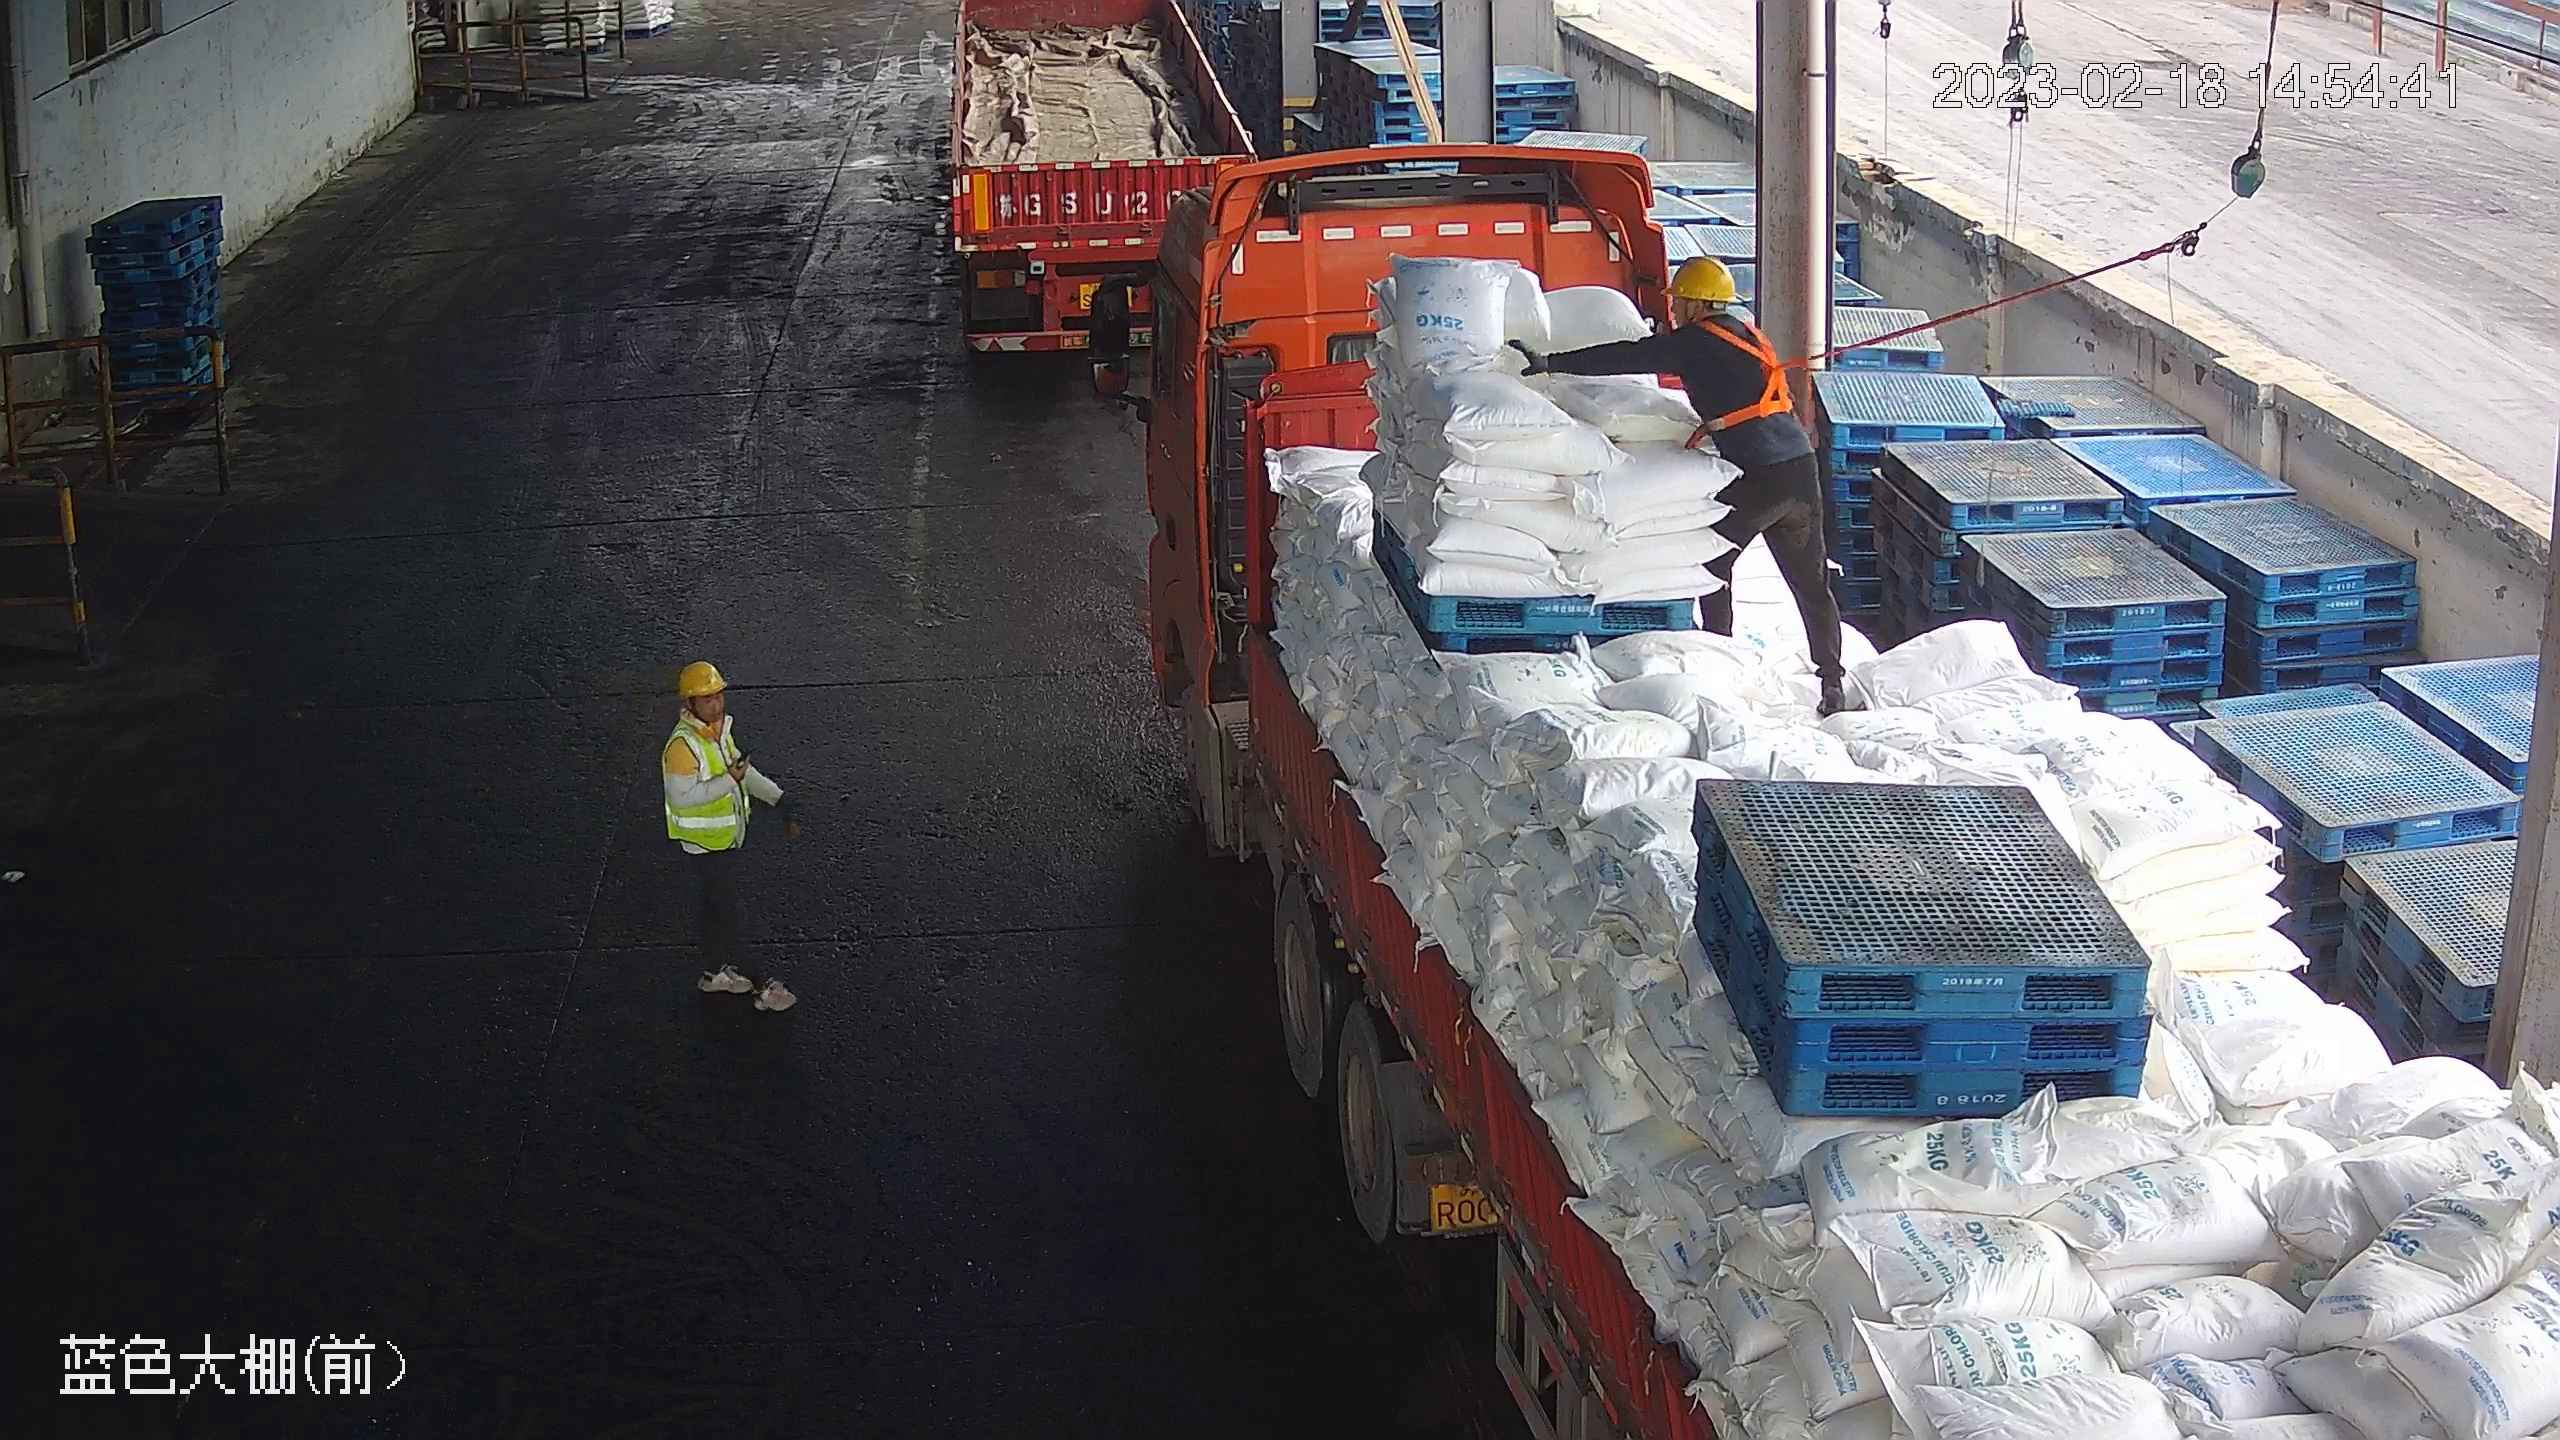belt: (1696, 317, 1803, 432)
head: (1650, 256, 1789, 384), (657, 659, 754, 769)
helmet: (1664, 254, 1738, 301), (673, 658, 725, 698)
people: (1517, 251, 1863, 713), (650, 657, 795, 1015)
truck: (1097, 169, 2559, 1440), (921, 1, 1251, 376)
